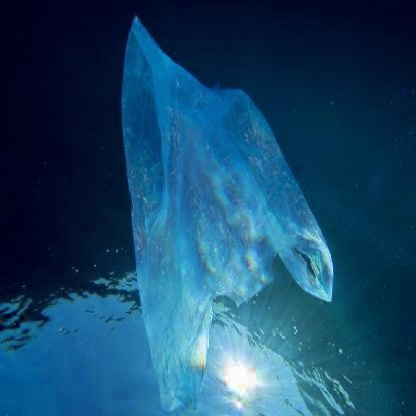pbag: (114, 7, 336, 416)
